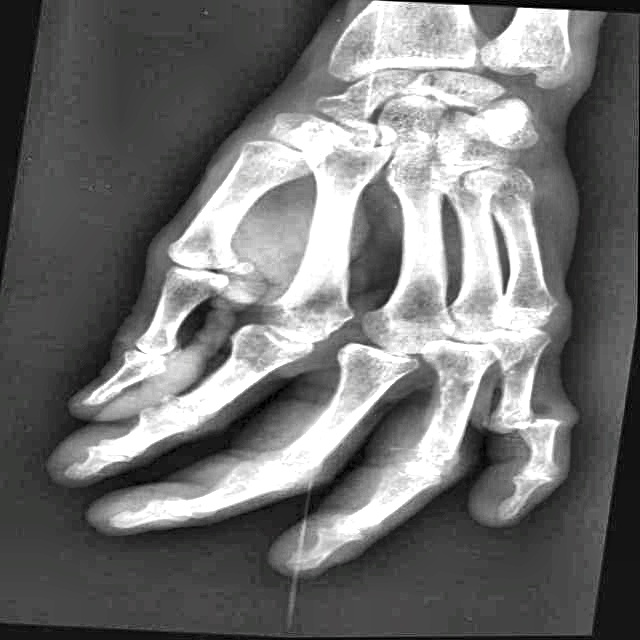Transverse: (474, 403, 584, 449)
